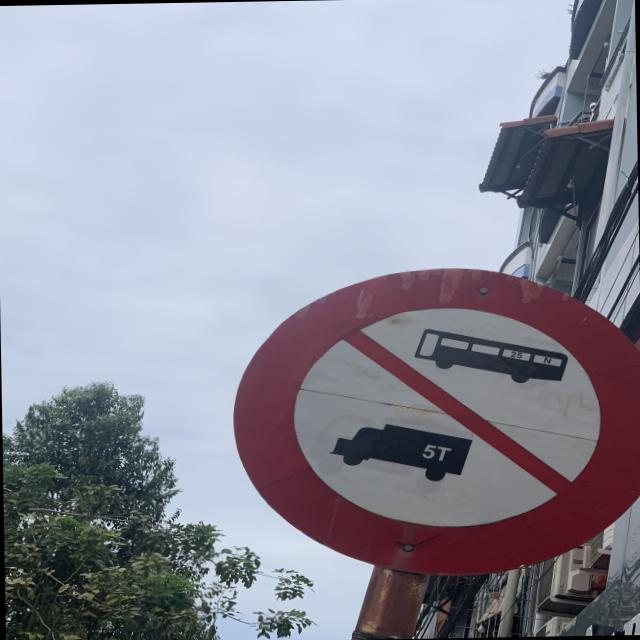Cam_XeTai_XeKhach: (233, 263, 640, 582)
